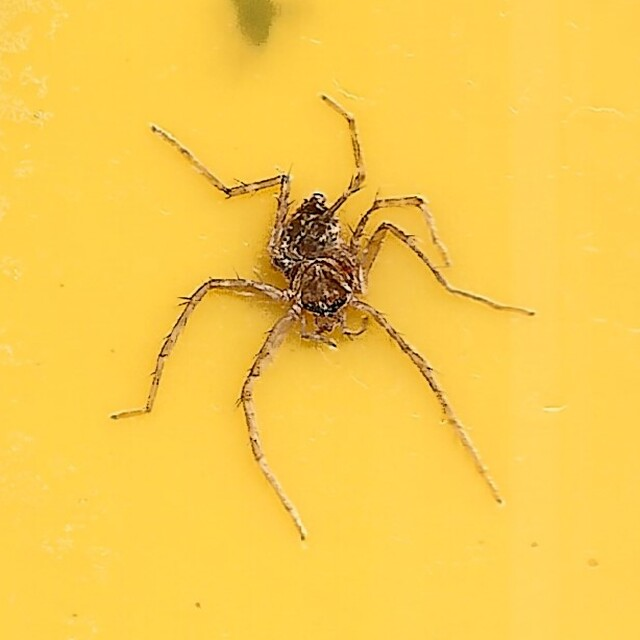Araneae: (104, 95, 536, 545)
